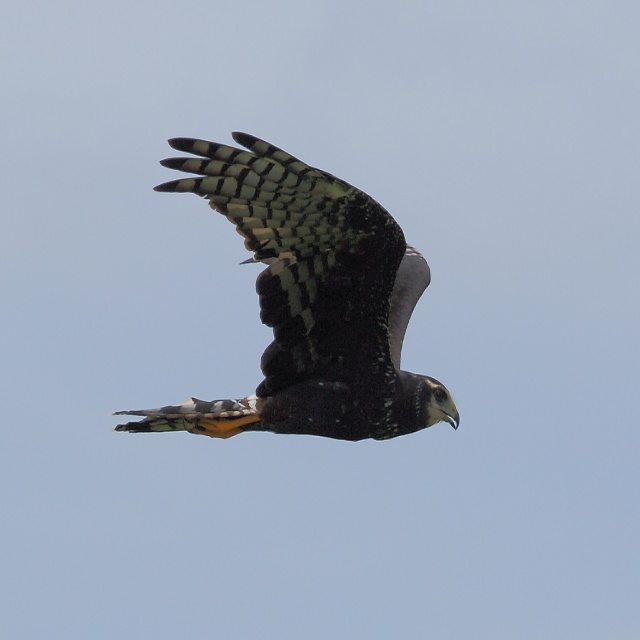Eagle: (110, 129, 467, 443)
